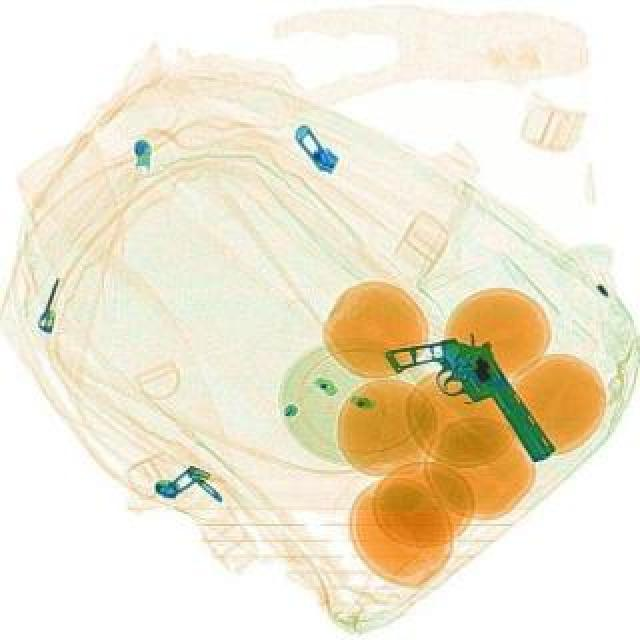gun: (380, 306, 560, 494)
